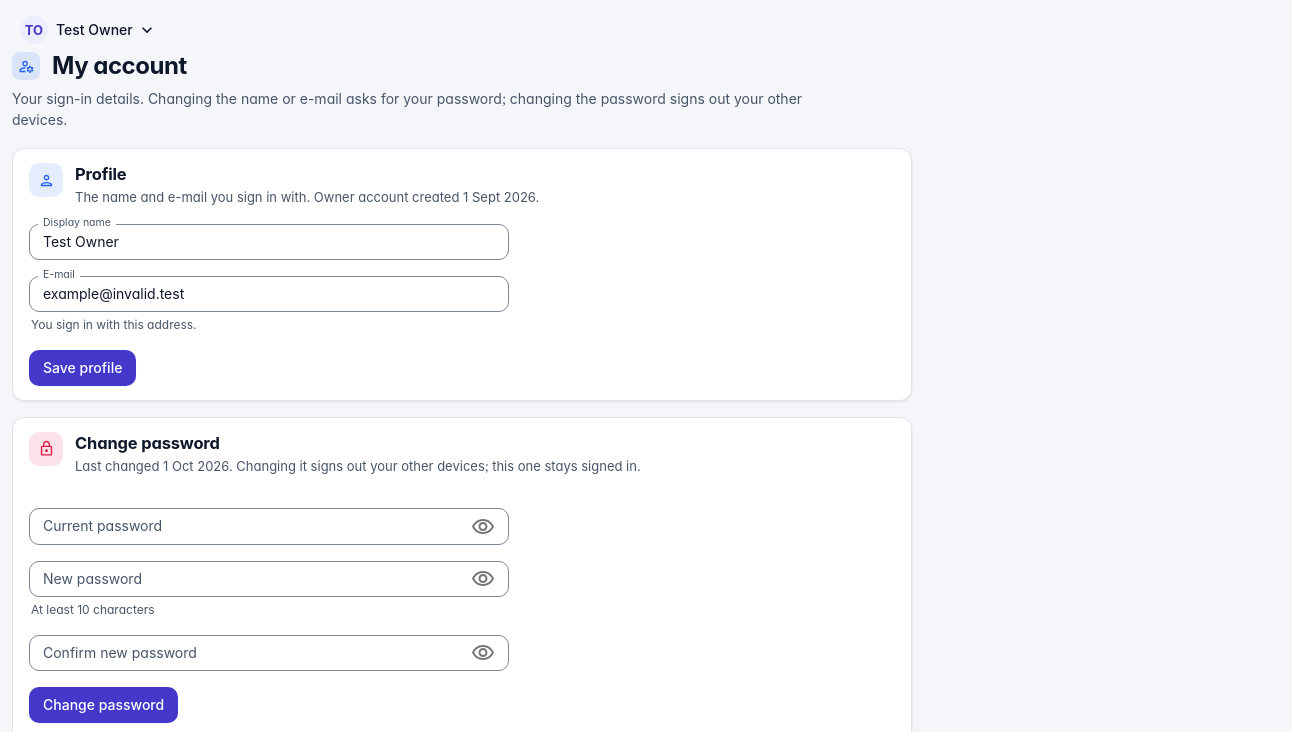
Scenario: My account: profile › shows the field messages of the API next to the fields
The width and height of the screenshot is (1292, 732).
Type "x" into the field labelled "Display name" at {"x": 269, "y": 242}, box [29,224,509,260]
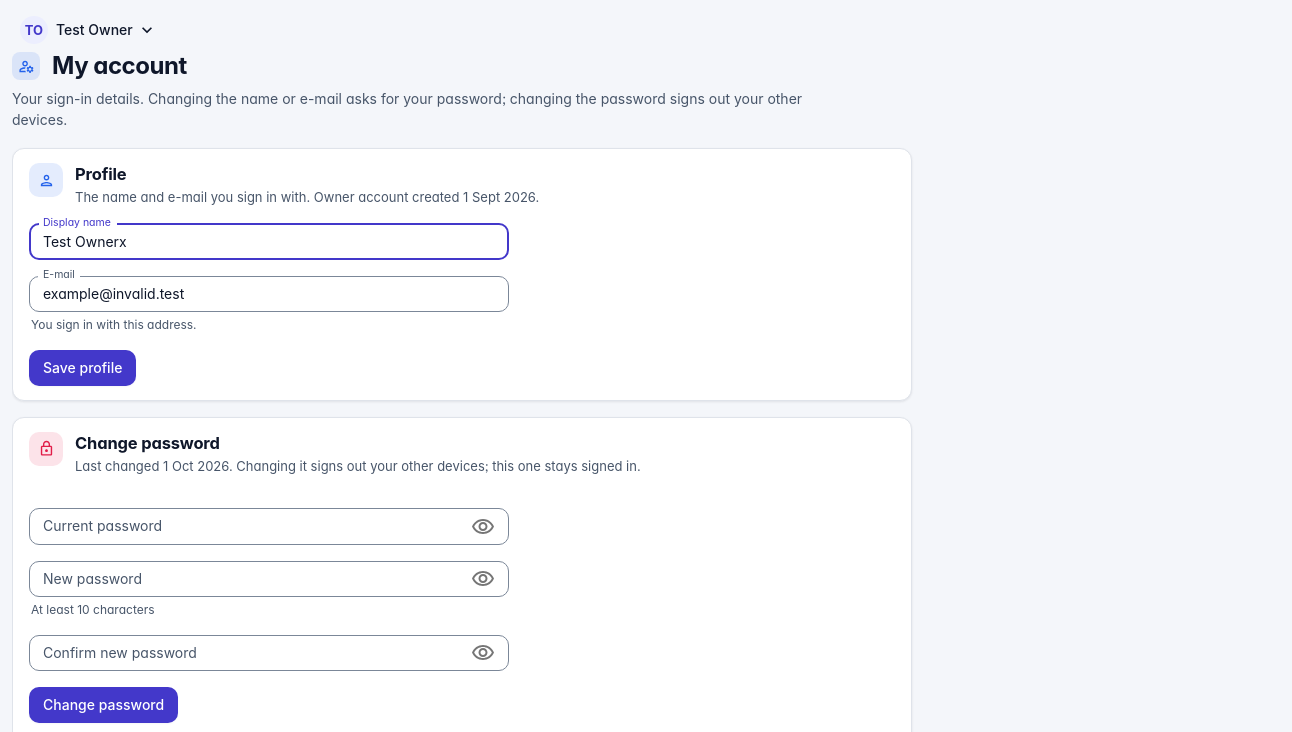
Click the button "Save profile" at {"x": 83, "y": 368}, box [29,350,136,386]
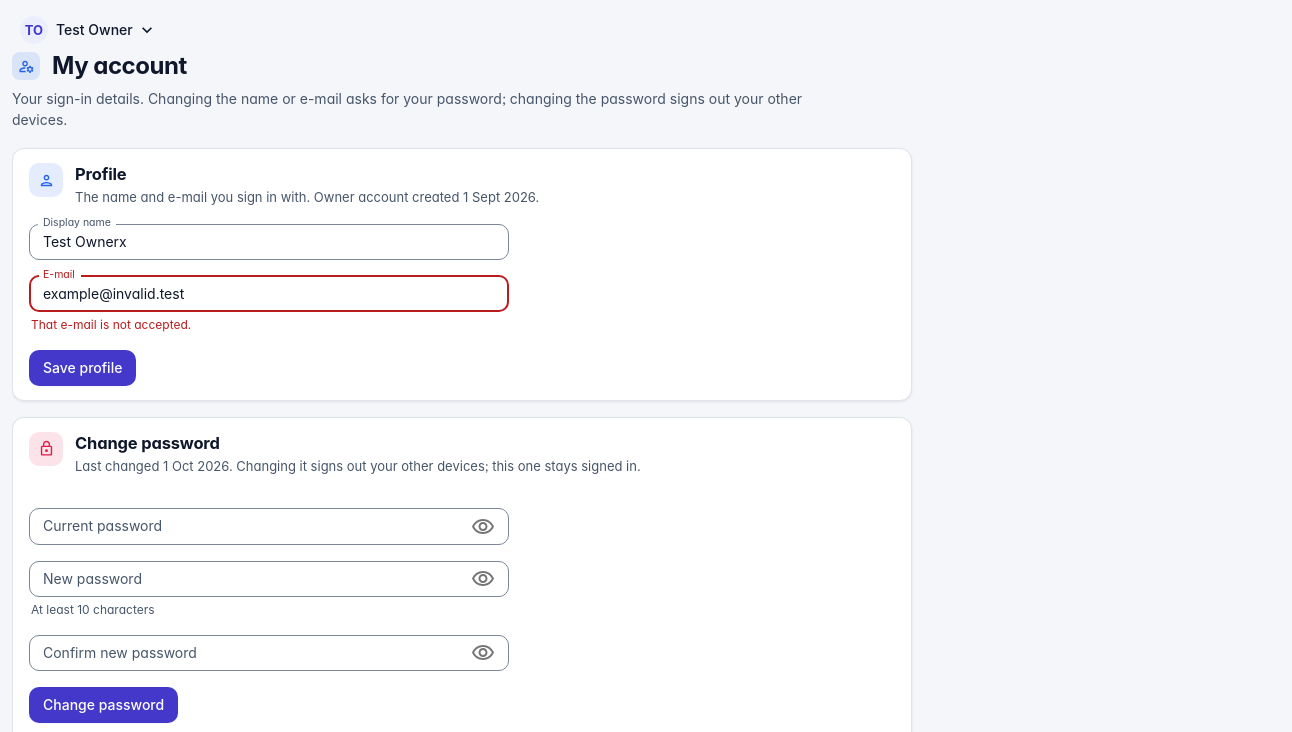
Result: the text "That e-mail is not accepted." is shown at [31,317,191,332]
